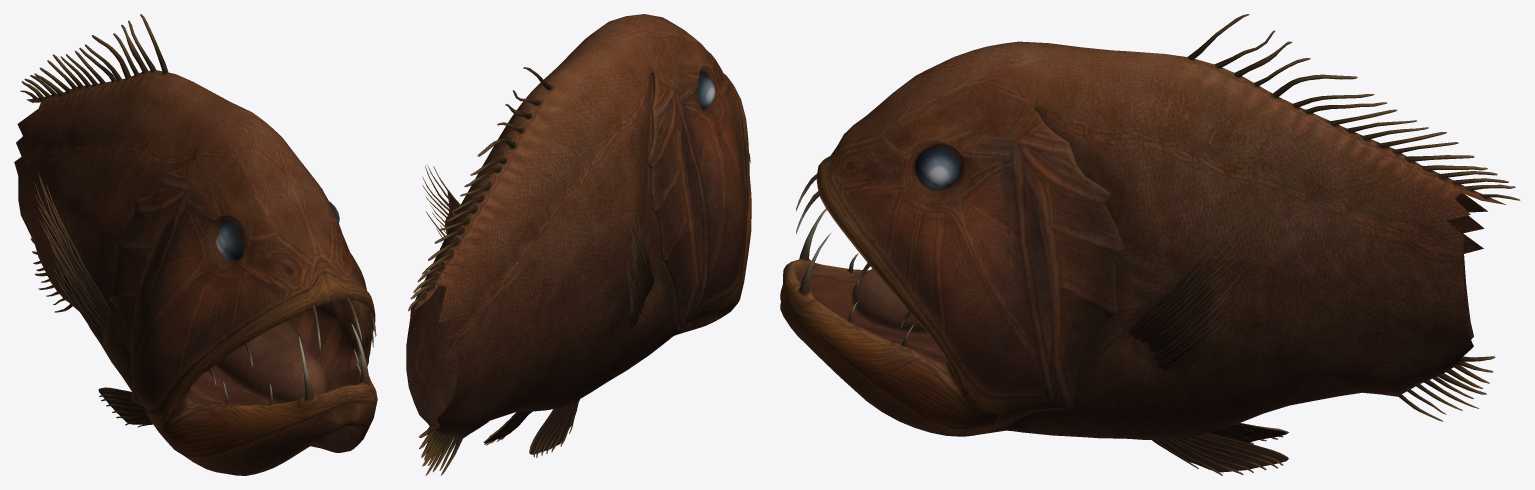
File: CabezaPirana.obj
3 views of the same model, side by side, from view 1: azimuth 30°, elevation 25°; view 2: azimuth 150°, elevation 25°; view 3: azimuth 270°, elevation 25° (orthographic). The views are drawn at different scales.
Visible parts, largest first — view 1: common_fangtooth_LOD2.1_Material_0; view 2: common_fangtooth_LOD2.1_Material_0; view 3: common_fangtooth_LOD2.1_Material_0.
Boxes of the visible parts, bbox=[...] form: common_fangtooth_LOD2.1_Material_0: bbox=[14, 14, 377, 475]; common_fangtooth_LOD2.1_Material_0: bbox=[406, 14, 751, 475]; common_fangtooth_LOD2.1_Material_0: bbox=[780, 14, 1520, 475].
Bounding box in the file's own units: 1.09 × 1.88 × 2.83.
